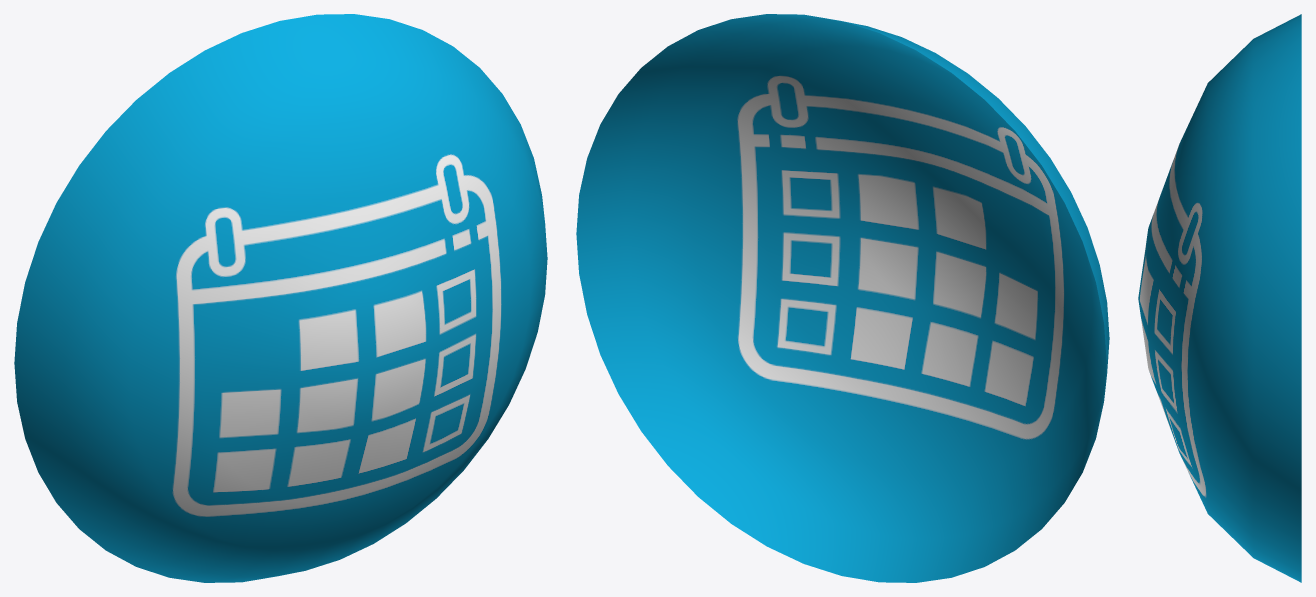
Rendered from Icon_calcio_calendario.glb.
3 renders of one model, left to right at view 1: azimuth 30°, elevation 25°; view 2: azimuth 150°, elevation 25°; view 3: azimuth 270°, elevation 25°, orthographic. The views are drawn at different scales.
Parts seen in each view (by area): view 1: Cylinder.005; view 2: Cylinder.005; view 3: Cylinder.005.
Part boxes in pixels (box(x1,y1,x2,y2)): Cylinder.005: box(14, 14, 547, 582); Cylinder.005: box(576, 14, 1109, 582); Cylinder.005: box(1138, 14, 1301, 582).
Bounding box in the file's own units: 0.0859 × 0.0859 × 0.0247.
1 material, 1 textured.
